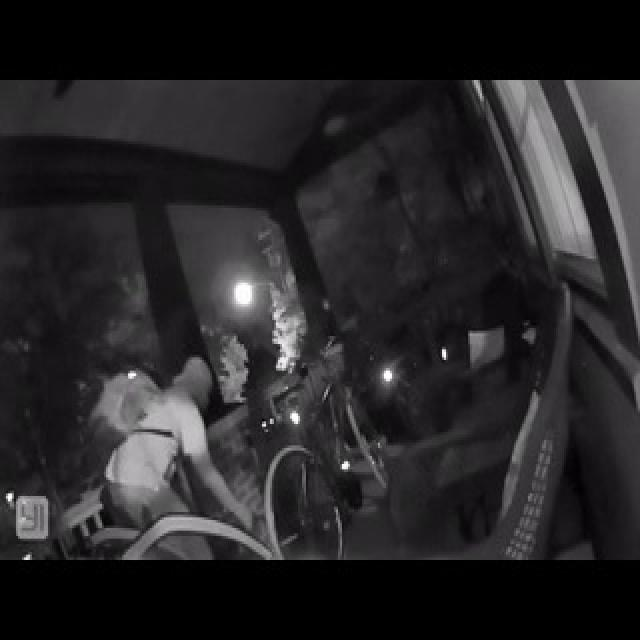thief: (98, 367, 259, 556)
